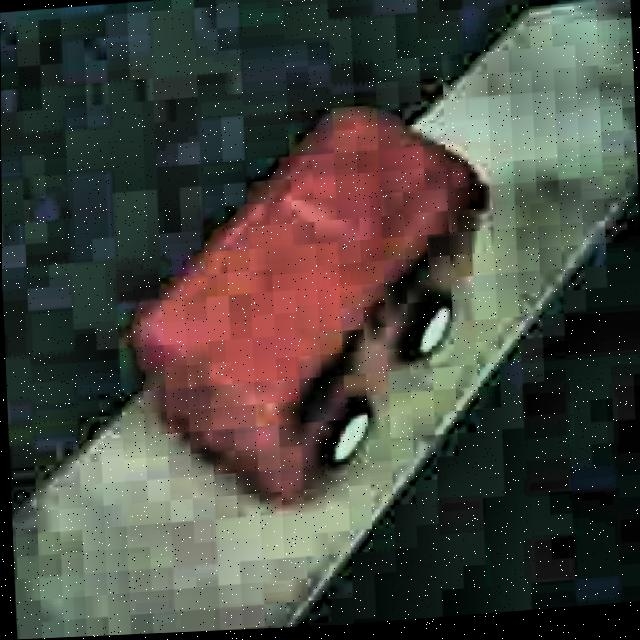bus: (119, 92, 500, 521)
